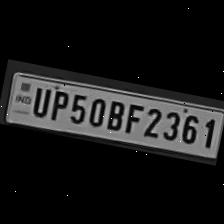0: (83, 92, 108, 128)
1: (196, 112, 220, 149)
2: (139, 102, 164, 139)
3: (158, 105, 182, 142)
5: (64, 88, 90, 124)
6: (177, 109, 202, 145)
B: (102, 96, 127, 132)
F: (122, 99, 146, 135)
P: (46, 84, 72, 121)
U: (27, 80, 53, 118)
